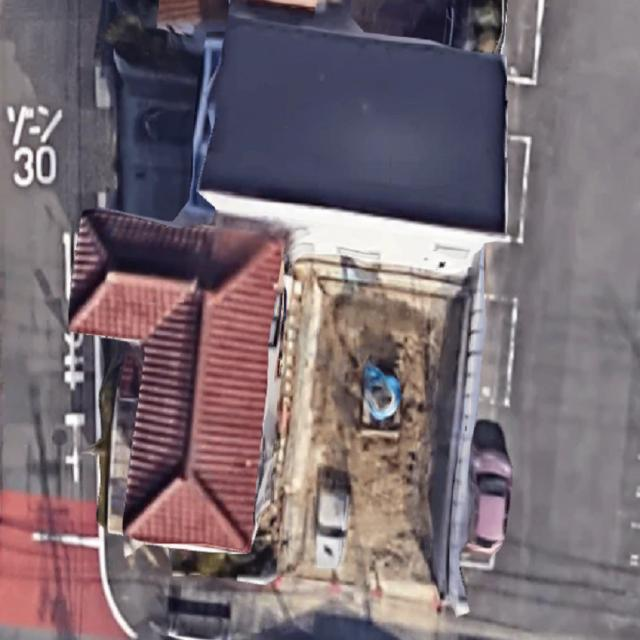Batiment: (199, 3, 506, 289), (69, 209, 284, 552)
